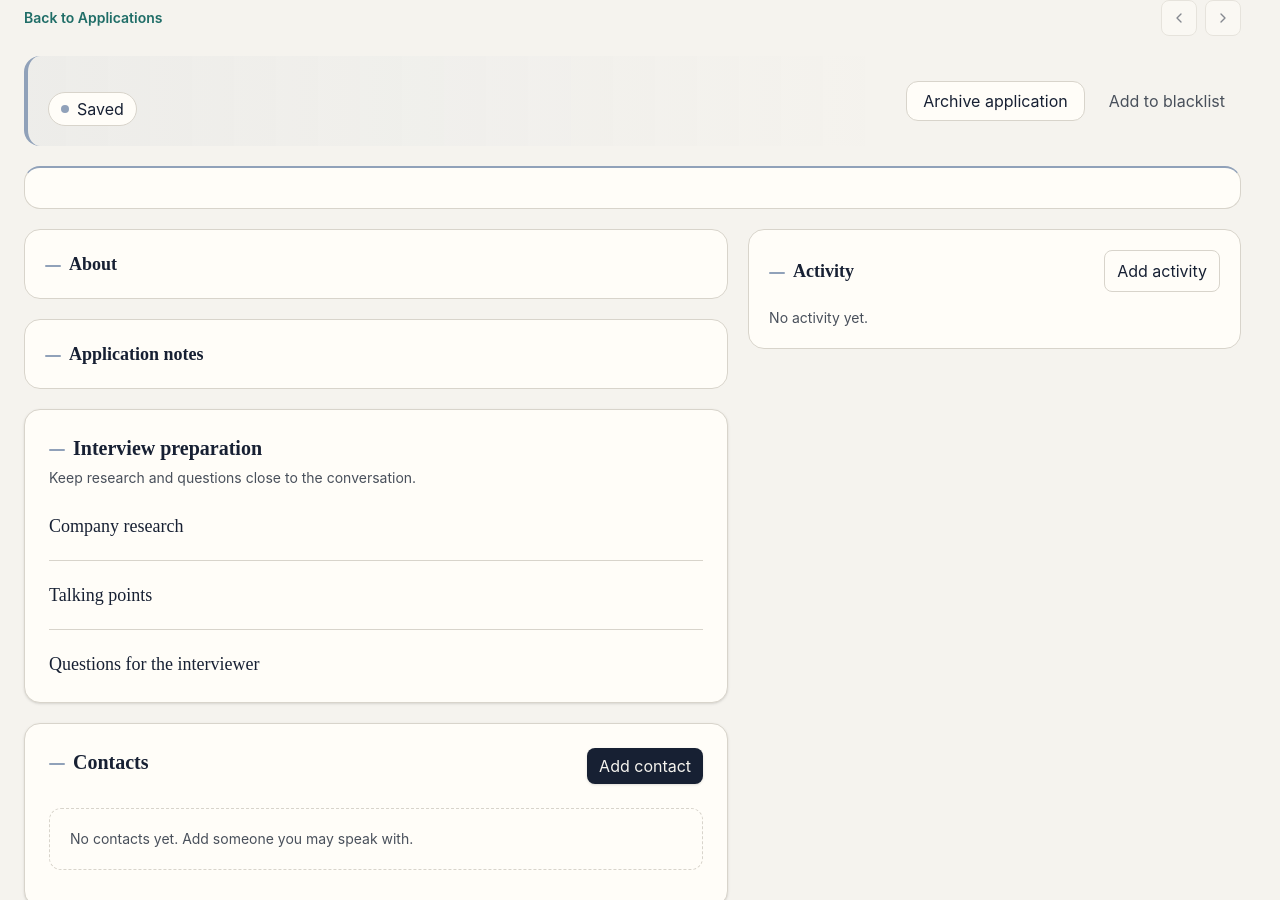
dismisses a lifecycle confirmation with backdrop after disconnection
Click the button "Archive application". click: [995, 101]
box: [906,81,1085,121]
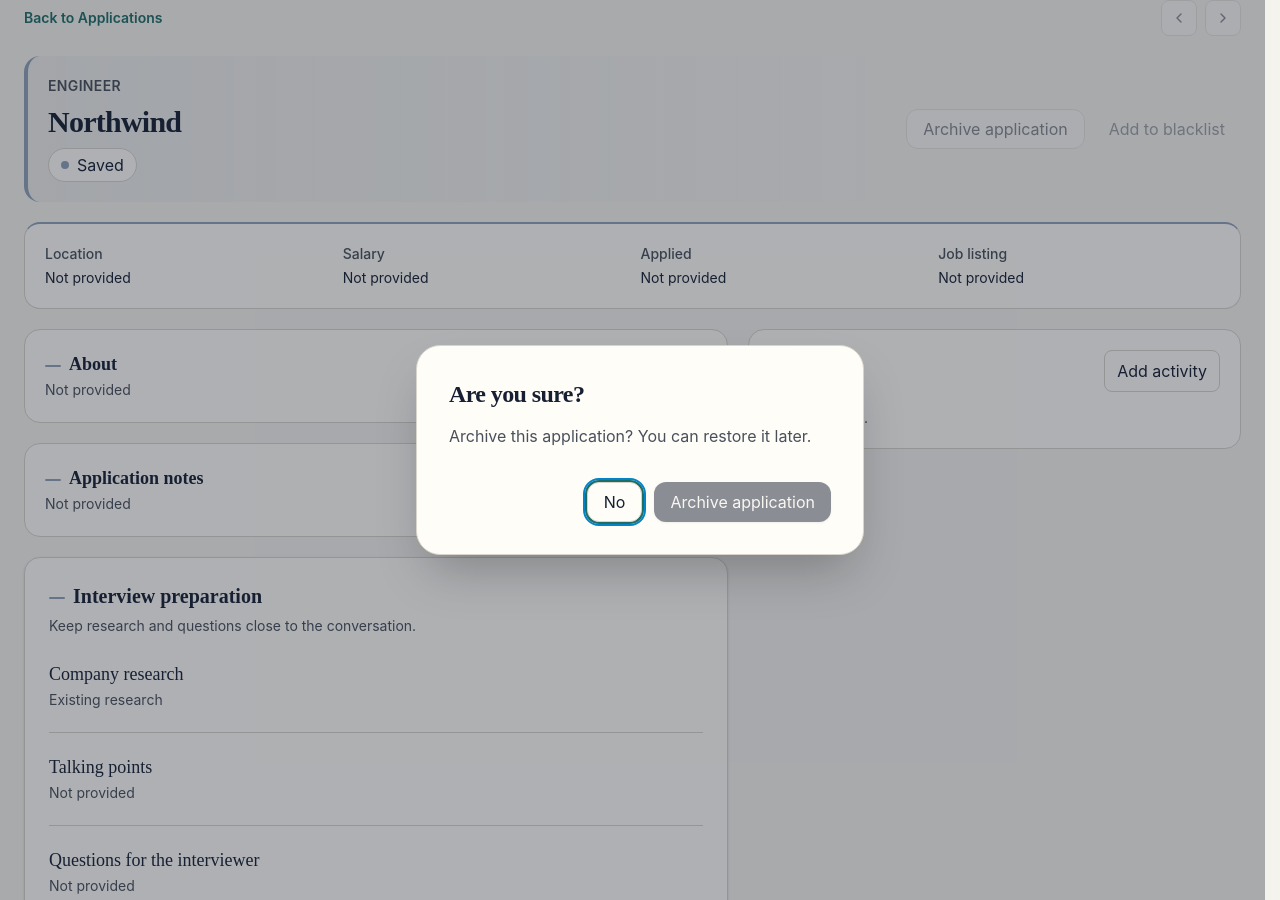
expect the button "Archive application" is disabled: met, box [654,482,831,522]
expect the button "No" is enabled: met, box [587,482,642,522]
Click the button named "No". click: [77, 450]
box: [0,0,1279,899]
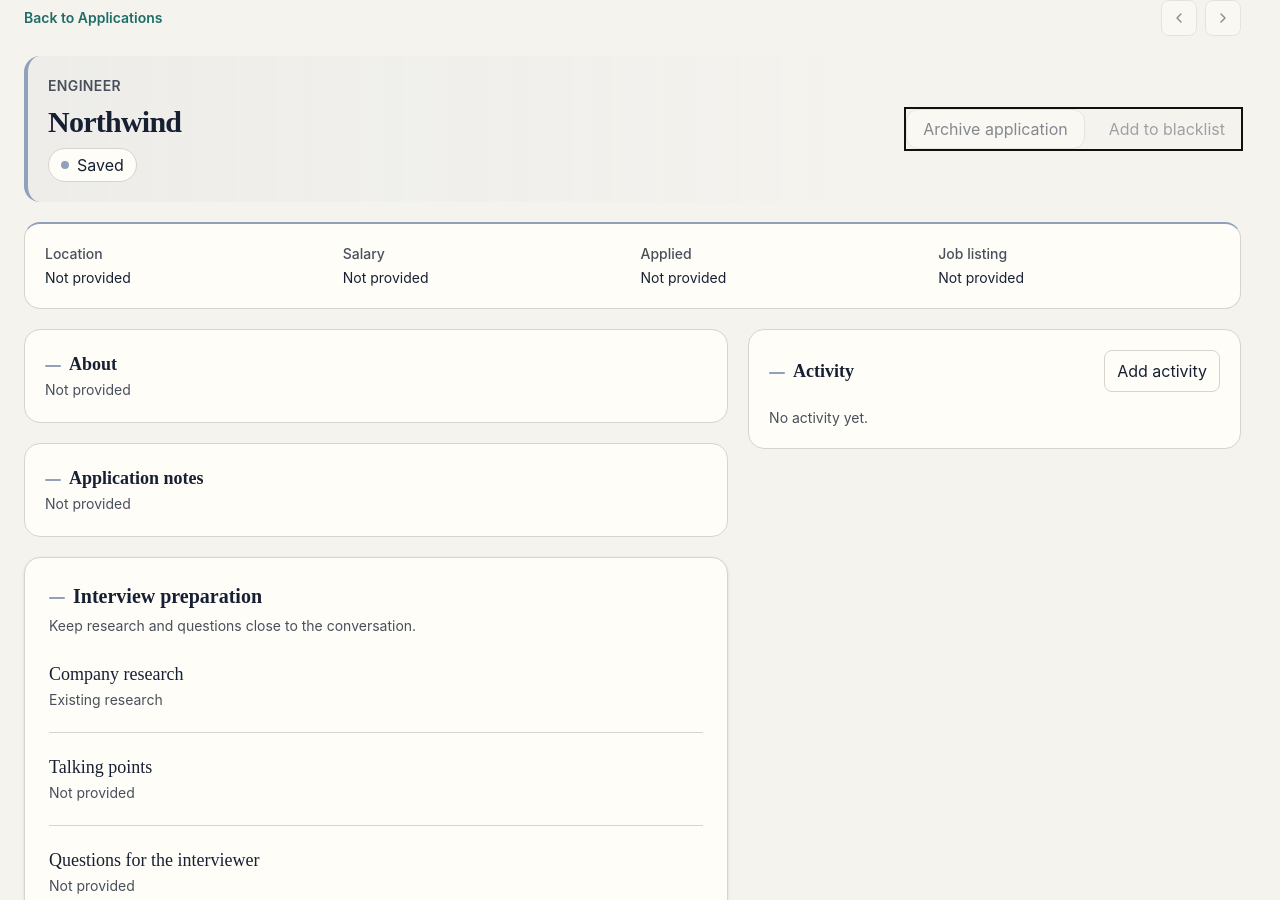
expect the dialog is gone: met
